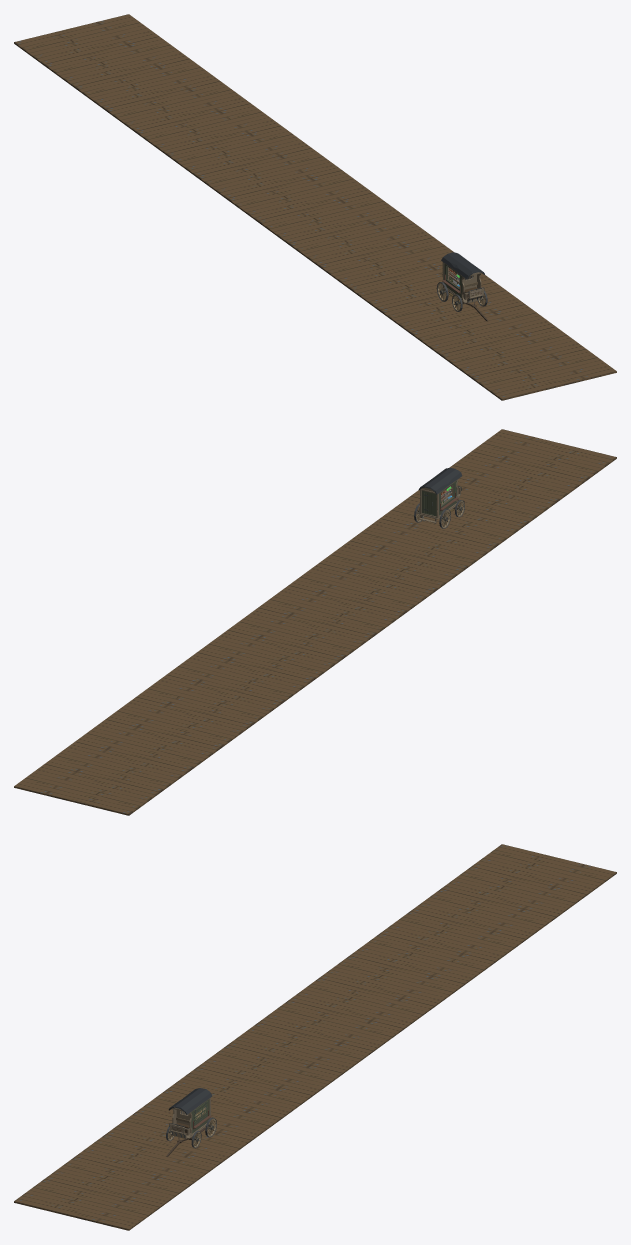
File: stall_tonics.glb
The picture shows the model from 3 angles, top to bottom: view 1: azimuth 30°, elevation 25°; view 2: azimuth 150°, elevation 25°; view 3: azimuth 330°, elevation 25°; orthographic projection.
Visible parts, largest first — view 1: Boardwalk, SM_Veh_Wagon_Shop_01; view 2: Boardwalk, SM_Veh_Wagon_Shop_01; view 3: Boardwalk, SM_Veh_Wagon_Shop_01.
Part boxes in pixels (box(x1,y1,x2,y2)): Boardwalk: box(14, 14, 616, 400); SM_Veh_Wagon_Shop_01: box(441, 252, 484, 303); Boardwalk: box(14, 429, 616, 815); SM_Veh_Wagon_Shop_01: box(418, 467, 462, 523); Boardwalk: box(14, 844, 616, 1230); SM_Veh_Wagon_Shop_01: box(168, 1088, 212, 1138).
Size of the model in its own units: 10.76 by 3.84 by 79.04.
Materials: 6 (4 with a texture image).
